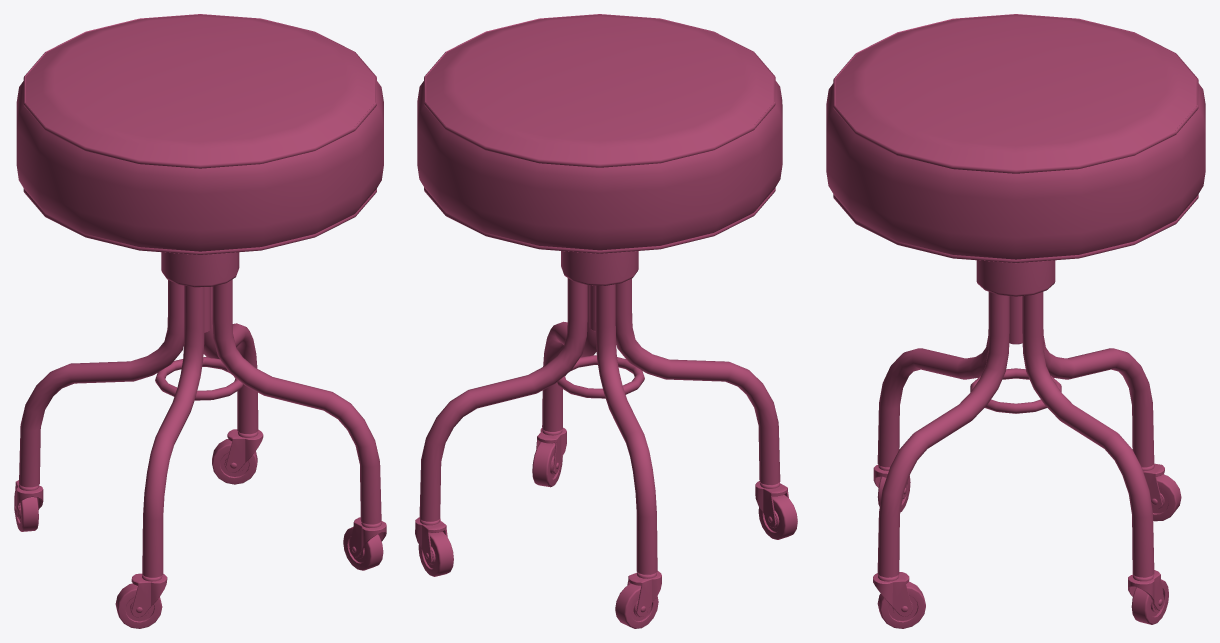
File: Stool.fbx
3 renders of one model, left to right at view 1: azimuth 30°, elevation 25°; view 2: azimuth 150°, elevation 25°; view 3: azimuth 270°, elevation 25°, orthographic. The views are drawn at different scales.
Visible parts, largest first — view 1: Furniture_Chair_01:Furniture_Chair_01:Furniture_Chair_01:Too; view 2: Furniture_Chair_01:Furniture_Chair_01:Furniture_Chair_01:Too; view 3: Furniture_Chair_01:Furniture_Chair_01:Furniture_Chair_01:Too.
Boxes of the visible parts, left/top/right/bottom form: Furniture_Chair_01:Furniture_Chair_01:Furniture_Chair_01:Too: left=14, top=14, right=386, bottom=628; Furniture_Chair_01:Furniture_Chair_01:Furniture_Chair_01:Too: left=415, top=14, right=797, bottom=628; Furniture_Chair_01:Furniture_Chair_01:Furniture_Chair_01:Too: left=826, top=14, right=1205, bottom=628.
Size of the model in its own units: 8.53 by 12.05 by 8.4.
